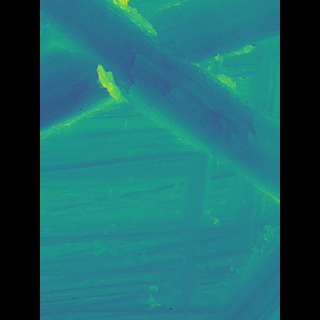Loch: (75, 0, 250, 208)
